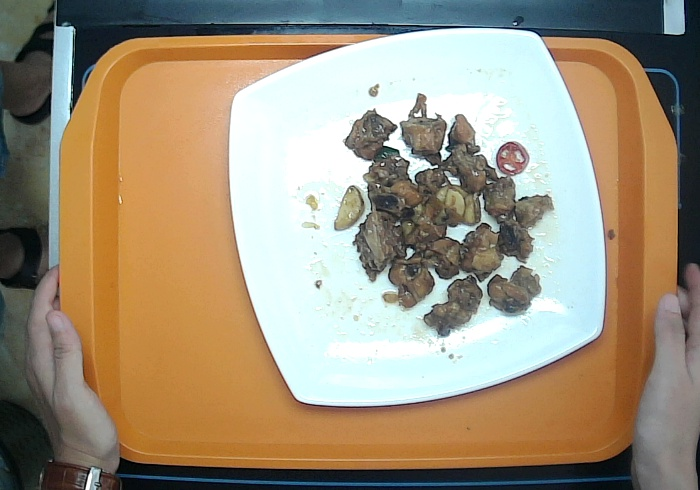ZNLD-Bai_Fang_Pan: (226, 27, 607, 408)
